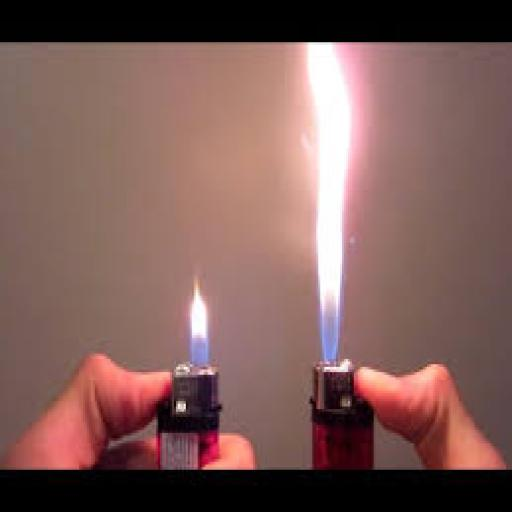fire: (308, 42, 350, 364), (308, 45, 348, 359)
